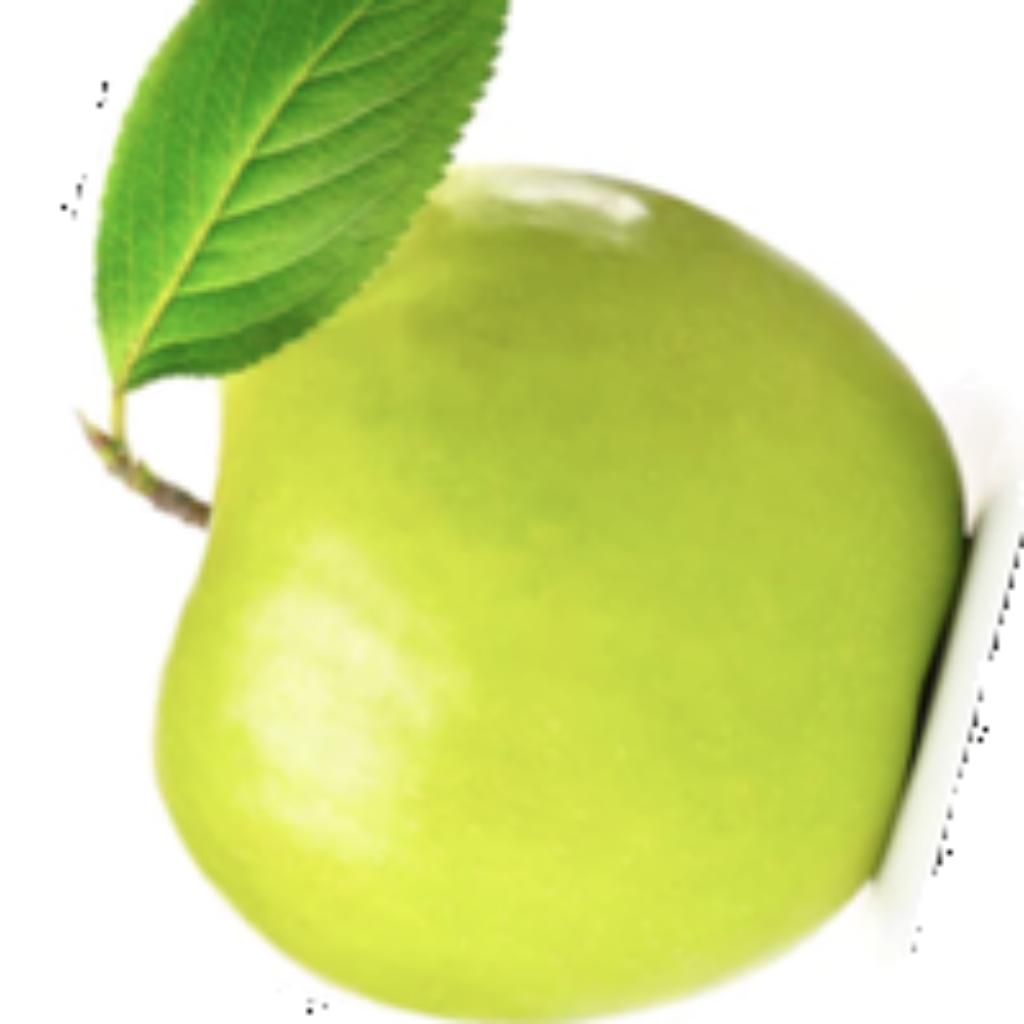apple: (67, 0, 1019, 1019)
